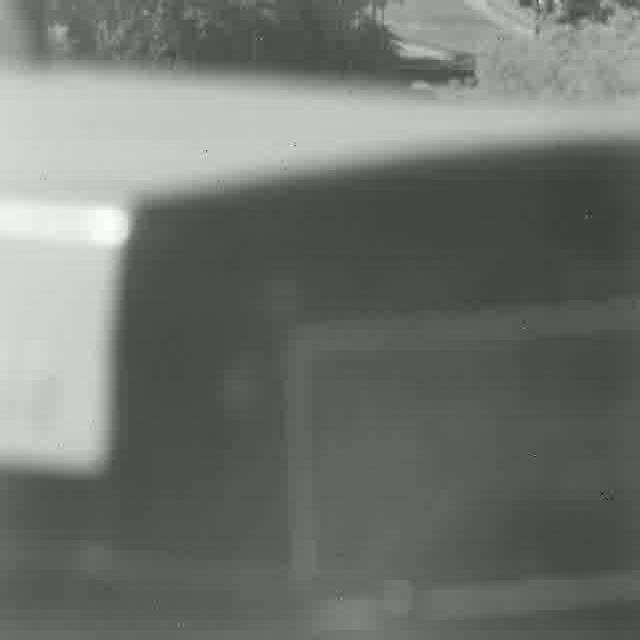Car: (1, 70, 638, 640), (320, 72, 328, 98)
